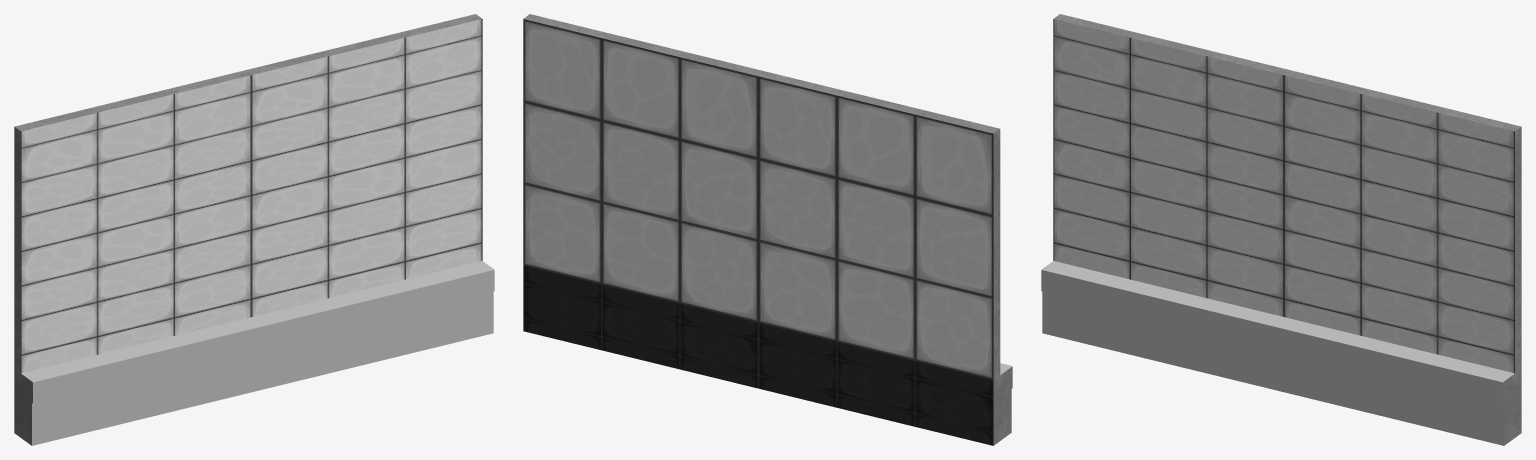
The model's file is SM_Platform_Wall_8m.fbx.
3 renders of one model, left to right at view 1: azimuth 30°, elevation 25°; view 2: azimuth 150°, elevation 25°; view 3: azimuth 330°, elevation 25°, orthographic.
Parts seen in each view (by area): view 1: SM_Platform_Wall_8m; view 2: SM_Platform_Wall_8m; view 3: SM_Platform_Wall_8m.
Boxes of the visible parts, x1=… form: SM_Platform_Wall_8m: x1=14, y1=14, x2=494, y2=445; SM_Platform_Wall_8m: x1=523, y1=14, x2=1012, y2=445; SM_Platform_Wall_8m: x1=1041, y1=14, x2=1521, y2=445.
Bounding box in the file's own units: 800 × 507 × 56.78.
